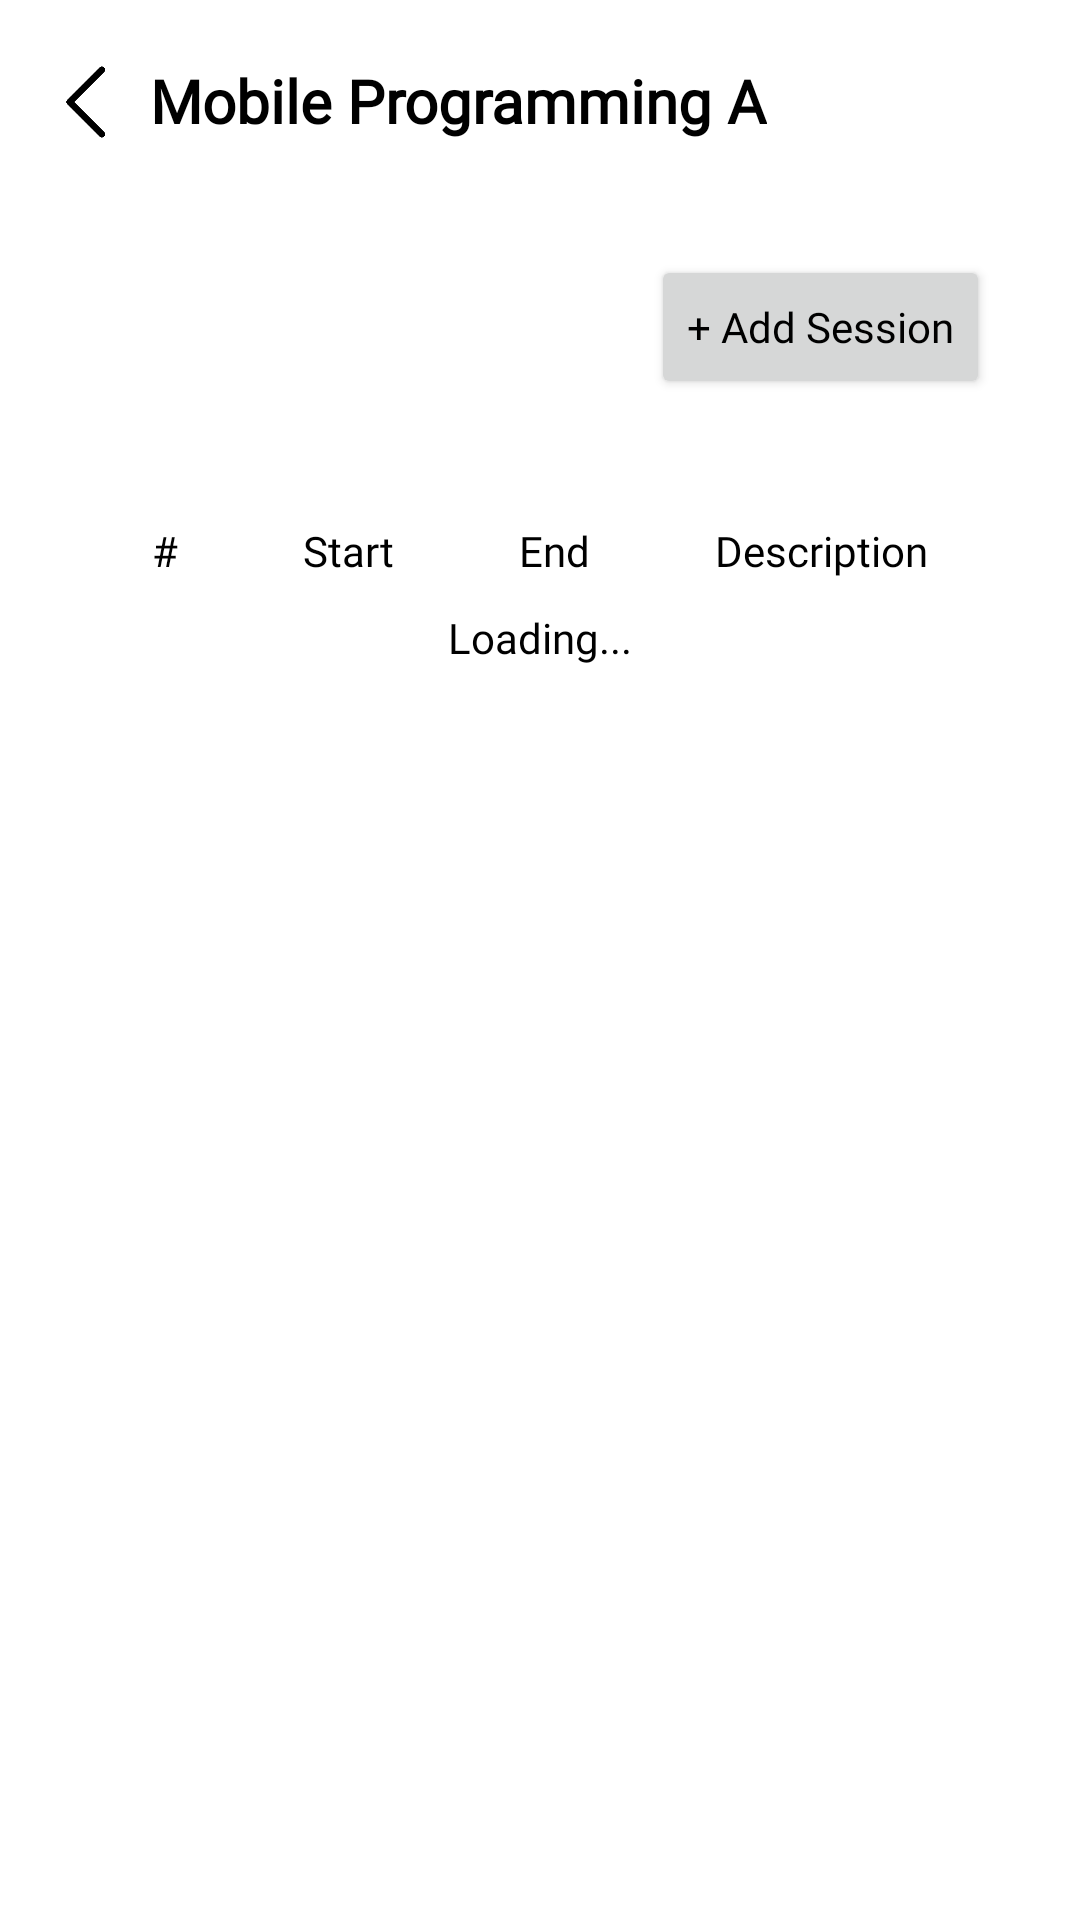

Point at icon controls on the screen. Image size 1080 × 1920, points as [x,y].
back: [85,102]
